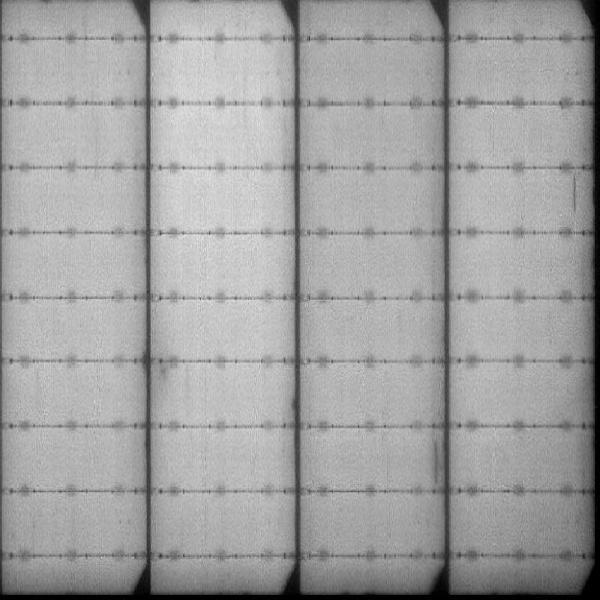scratch: (568, 173, 581, 215), (429, 440, 442, 481)
